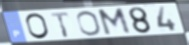4: (156, 5, 180, 33)
8: (128, 6, 152, 34)
M: (96, 7, 133, 37)
O: (24, 12, 51, 41), (76, 10, 103, 37)
T: (49, 11, 71, 39)
